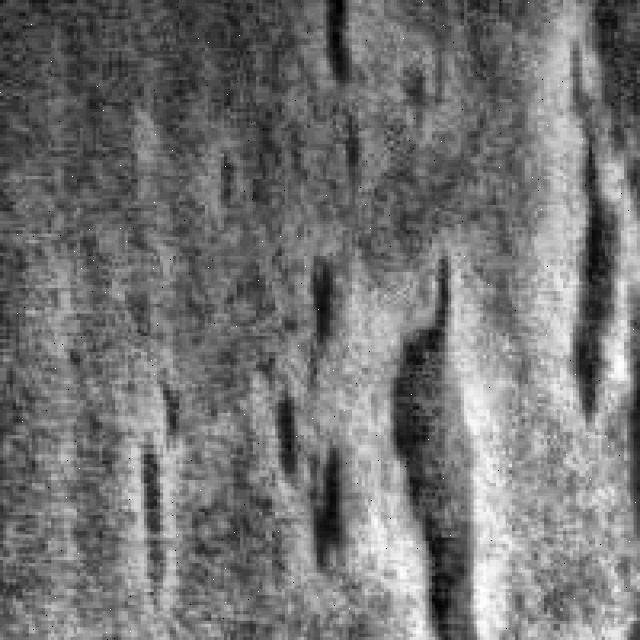Patches: (388, 244, 487, 630), (550, 0, 640, 419), (268, 362, 356, 572), (132, 364, 198, 612), (300, 250, 356, 380), (316, 0, 372, 96)
